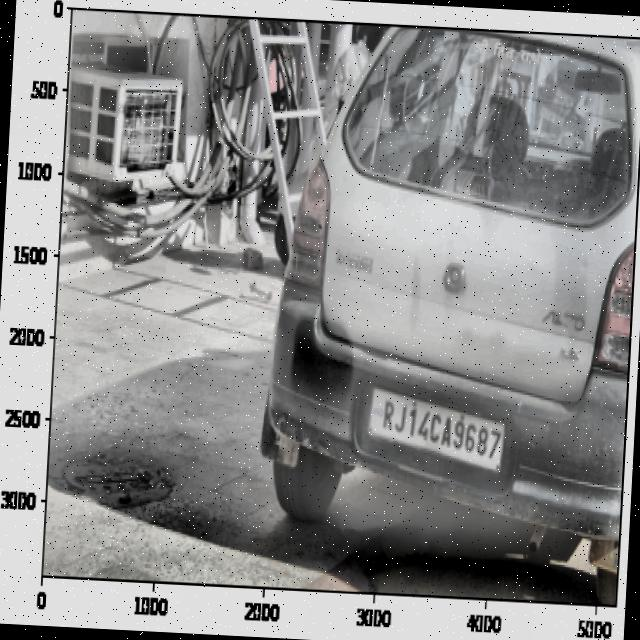license_plate: (377, 392, 506, 469)
